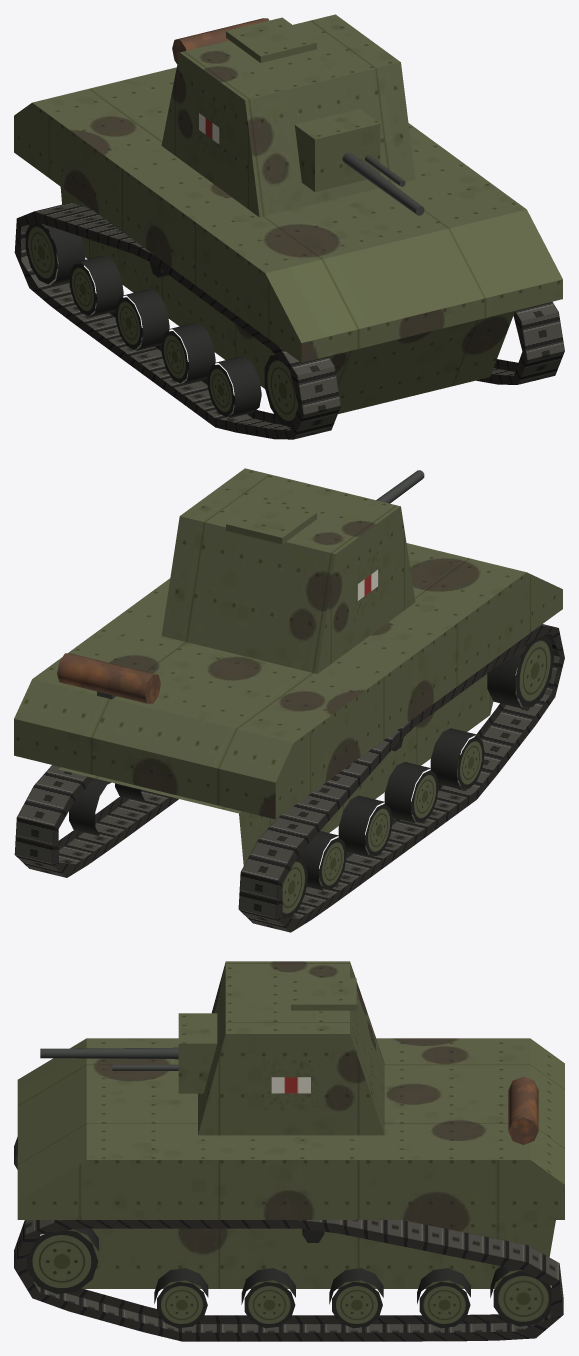
Rendered from armor-1.glb.
3 renders of one model, top to bottom at view 1: azimuth 30°, elevation 25°; view 2: azimuth 150°, elevation 25°; view 3: azimuth 270°, elevation 25°, orthographic. The views are drawn at different scales.
Parts seen in each view (by area): view 1: hull, turret, tracks_right, gun, tracks_left, roue_folle_right, galet_right_4, galet_right_2, galet_right_1, galet_right_3, hatch, barbotin_right; view 2: hull, turret, tracks_right, tracks_left, barbotin_right, galet_right_3, galet_right_4, galet_right_2, hatch, galet_right_1, galet_left_1, roue_folle_right; view 3: hull, turret, tracks_left, gun, barbotin_left, roue_folle_left, galet_left_2, galet_left_3, galet_left_1, galet_left_4, hatch.
Boxes of the visible parts, box(x1,y1,x2,y2) form: hull: box(14, 18, 562, 413); turret: box(161, 14, 415, 217); tracks_right: box(14, 202, 340, 439); gun: box(294, 109, 424, 215); tracks_left: box(476, 301, 564, 384); roue_folle_right: box(25, 222, 85, 286); galet_right_4: box(207, 356, 261, 418); galet_right_2: box(115, 289, 169, 351); galet_right_1: box(69, 255, 123, 317); galet_right_3: box(161, 323, 215, 384); hatch: box(226, 17, 316, 62); barbotin_right: box(264, 352, 298, 427); hull: box(14, 543, 562, 865); turret: box(161, 468, 415, 673); tracks_right: box(238, 624, 564, 932); tracks_left: box(14, 765, 178, 877); barbotin_right: box(487, 635, 553, 708); galet_right_3: box(384, 762, 438, 823); galet_right_4: box(430, 728, 484, 789); galet_right_2: box(338, 795, 392, 856); hatch: box(226, 499, 316, 544); galet_right_1: box(298, 831, 346, 890); galet_left_1: box(69, 778, 111, 835); roue_folle_right: box(282, 856, 307, 917); hull: box(17, 1038, 564, 1288); turret: box(198, 961, 384, 1135); tracks_left: box(14, 1220, 563, 1341); gun: box(40, 1013, 217, 1093); barbotin_left: box(27, 1228, 98, 1294); roue_folle_left: box(490, 1266, 551, 1326); galet_left_2: box(329, 1268, 383, 1328); galet_left_3: box(241, 1268, 295, 1328); galet_left_1: box(417, 1268, 470, 1328); galet_left_4: box(154, 1268, 208, 1328); hatch: box(291, 978, 356, 1010).
Bounding box in the file's own units: 2.08 × 2.31 × 3.99.
5 materials, 5 textured.
